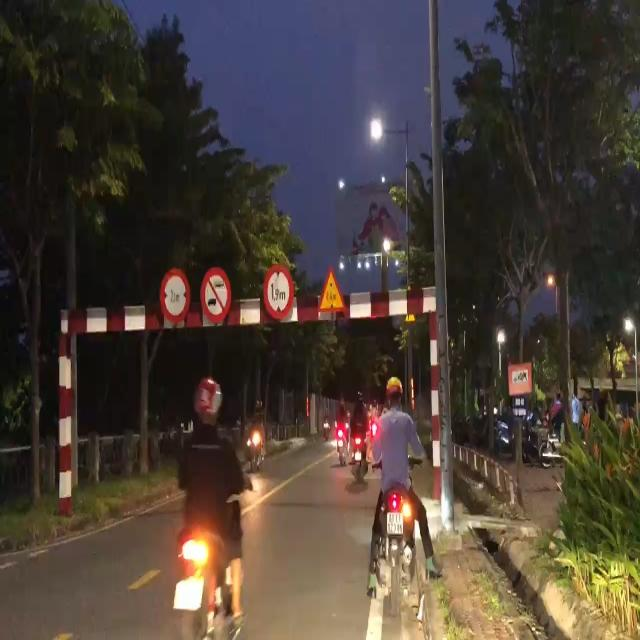Bien bao cam xe oto khach va xe oto tai: (201, 264, 234, 328)
Bien bao chieu cao tinh khong thuc te: (316, 262, 347, 316)
Bien bao han che chieu cao: (261, 260, 294, 330)
